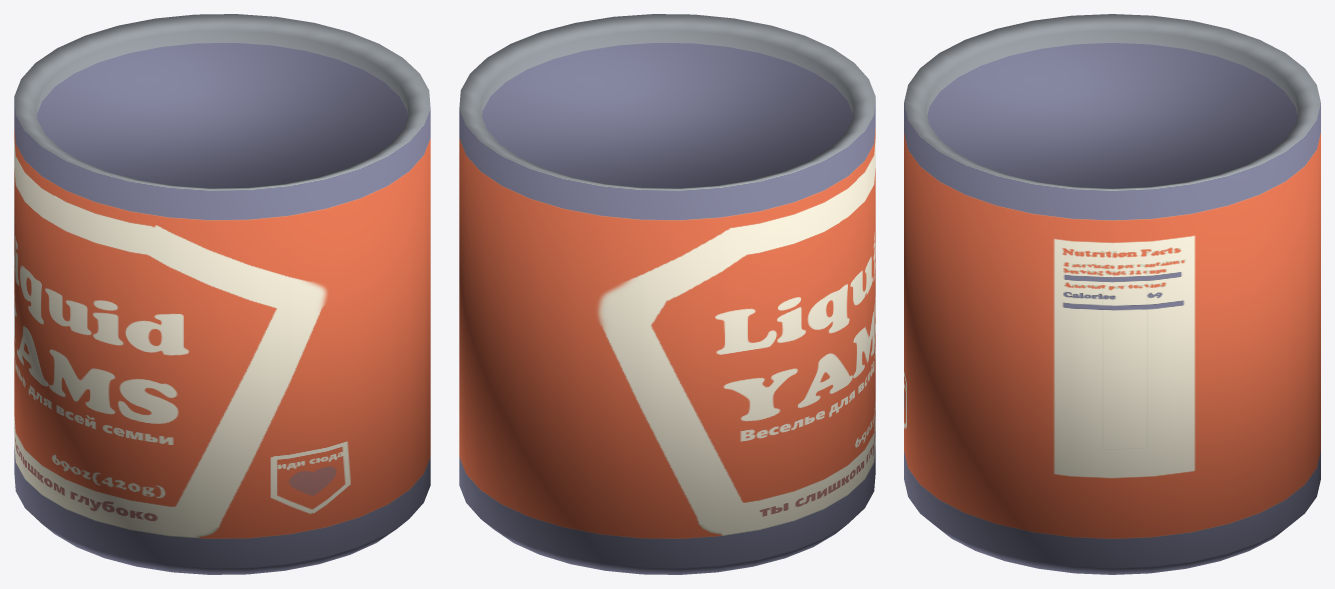
The model's file is Corn.fbx.
3 views of the same model, side by side, from view 1: azimuth 30°, elevation 25°; view 2: azimuth 150°, elevation 25°; view 3: azimuth 270°, elevation 25° (orthographic).
Parts seen in each view (by area): view 1: Corn; view 2: Corn; view 3: Corn.
Part boxes in pixels (x1,y1,x2,y2): Corn: (14, 14, 430, 574); Corn: (459, 14, 875, 574); Corn: (904, 14, 1320, 574).
Size of the model in its own units: 50 by 51.77 by 50.
Materials: 1 (1 with a texture image).
